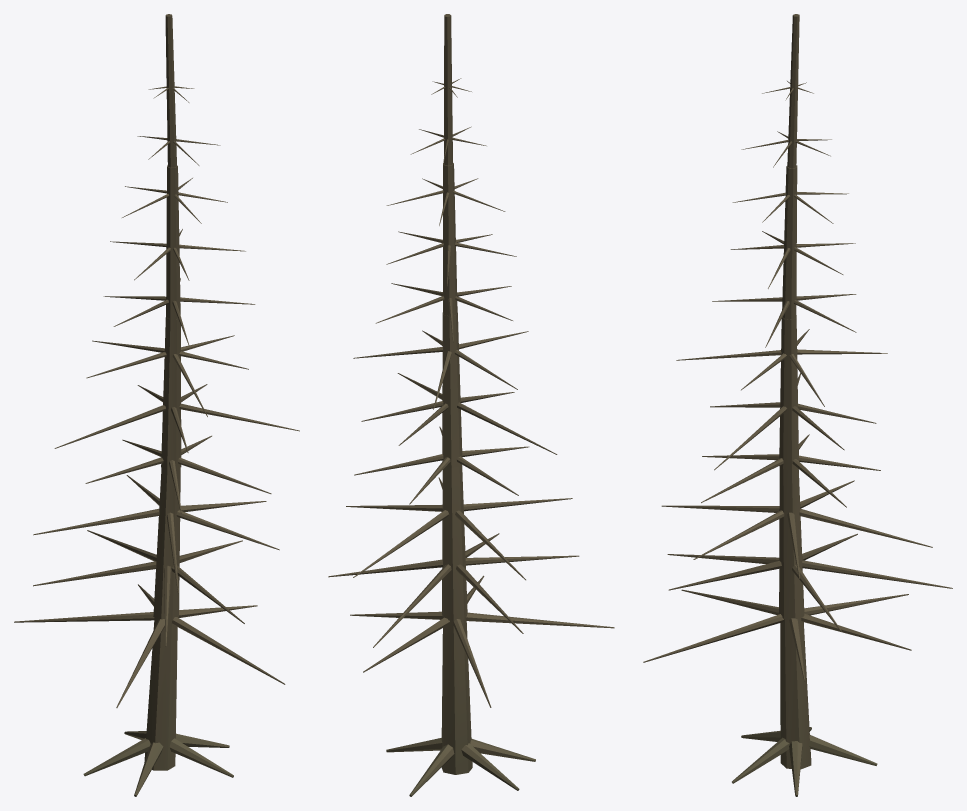
Rendered from taiga-dead-tree.glb.
The picture shows the model from 3 angles, left to right: view 1: azimuth 30°, elevation 25°; view 2: azimuth 150°, elevation 25°; view 3: azimuth 270°, elevation 25°; orthographic projection.
Visible parts, largest first — view 1: Сухостой со сломанной вершиной; view 2: Сухостой со сломанной вершиной; view 3: Сухостой со сломанной вершиной.
Part boxes in pixels (x1=…): Сухостой со сломанной вершиной: x1=14, y1=14, x2=299, y2=796; Сухостой со сломанной вершиной: x1=328, y1=14, x2=614, y2=796; Сухостой со сломанной вершиной: x1=643, y1=14, x2=952, y2=796.
Size of the model in its own units: 5.32 by 18.02 by 6.72.
